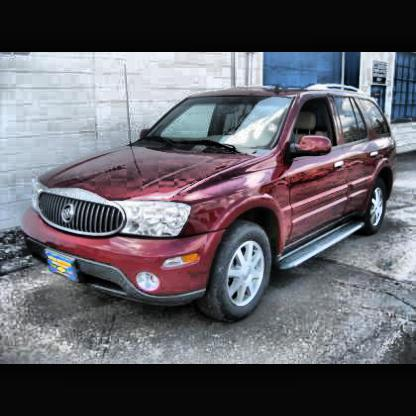Buick Rainier SUV 2007: (17, 83, 401, 328)
